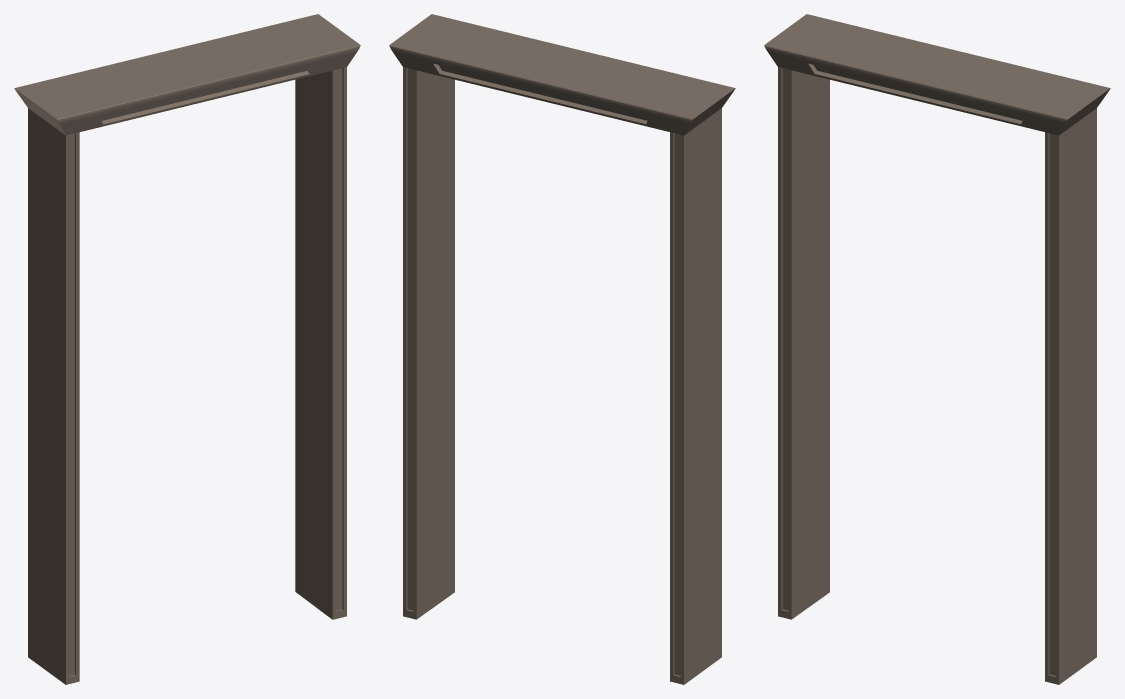
File: DoorFrameEmpty_Textured.fbx
The picture shows the model from 3 angles, left to right: view 1: azimuth 30°, elevation 25°; view 2: azimuth 150°, elevation 25°; view 3: azimuth 330°, elevation 25°; orthographic projection.
Parts seen in each view (by area): view 1: FrameWithoutDoor; view 2: FrameWithoutDoor; view 3: FrameWithoutDoor.
Boxes of the visible parts, bbox=[...] form: FrameWithoutDoor: bbox=[14, 14, 360, 684]; FrameWithoutDoor: bbox=[389, 14, 735, 684]; FrameWithoutDoor: bbox=[764, 14, 1110, 684].
Bounding box in the file's own units: 214 × 383 × 52.43.
